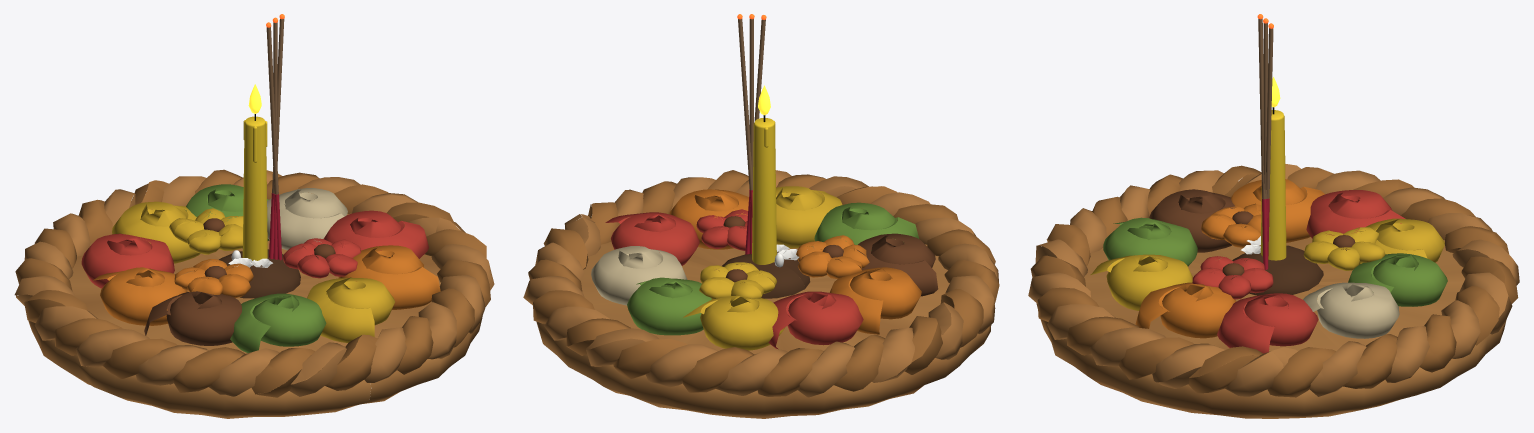
The model's file is bread.glb.
3 views of the same model, side by side, from view 1: azimuth 30°, elevation 25°; view 2: azimuth 150°, elevation 25°; view 3: azimuth 270°, elevation 25° (orthographic). The views are drawn at different scales.
Visible parts, largest first — view 1: bread_toppings, bread_braid, bread_base, candle_body, incense_sticks, bread_center; view 2: bread_toppings, bread_braid, bread_base, candle_body, incense_sticks, bread_center; view 3: bread_braid, bread_toppings, bread_base, incense_sticks, candle_body, bread_center.
Boxes of the visible parts, left/top/right/bottom form: bread_toppings: left=81, top=184, right=440, bottom=352; bread_braid: left=14, top=169, right=494, bottom=397; bread_base: left=28, top=213, right=482, bottom=418; candle_body: left=242, top=116, right=267, bottom=260; incense_sticks: left=266, top=19, right=284, bottom=260; bread_center: left=219, top=249, right=300, bottom=298; bread_toppings: left=591, top=186, right=938, bottom=350; bread_braid: left=523, top=170, right=999, bottom=397; bread_base: left=536, top=241, right=991, bottom=418; candle_body: left=752, top=118, right=776, bottom=264; incense_sticks: left=738, top=19, right=765, bottom=254; bread_center: left=722, top=251, right=810, bottom=298; bread_braid: left=1028, top=164, right=1519, bottom=397; bread_toppings: left=1090, top=179, right=1447, bottom=354; bread_base: left=1036, top=237, right=1506, bottom=418; incense_sticks: left=1258, top=19, right=1273, bottom=269; candle_body: left=1260, top=110, right=1286, bottom=260; bread_center: left=1232, top=245, right=1323, bottom=295.
Bounding box in the file's own units: 0.7601 × 0.5445 × 0.761.
